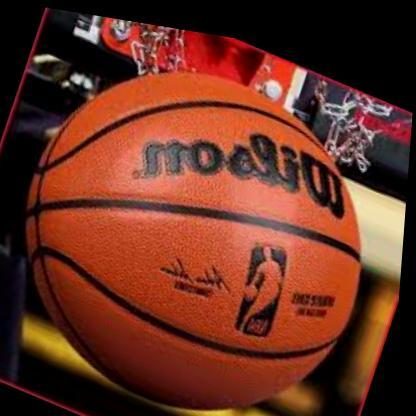basketball: (0, 10, 407, 416)
